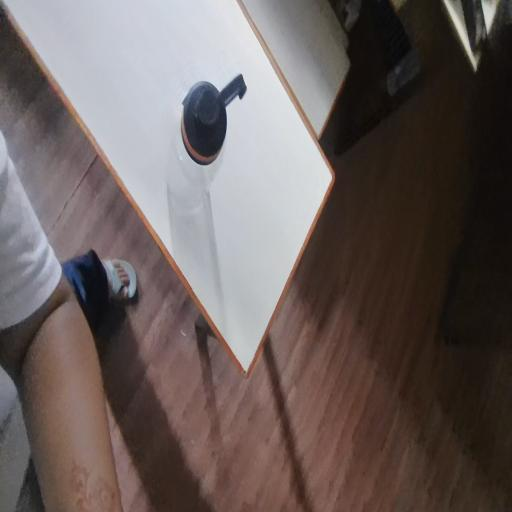Bottle: (175, 100, 268, 212)
